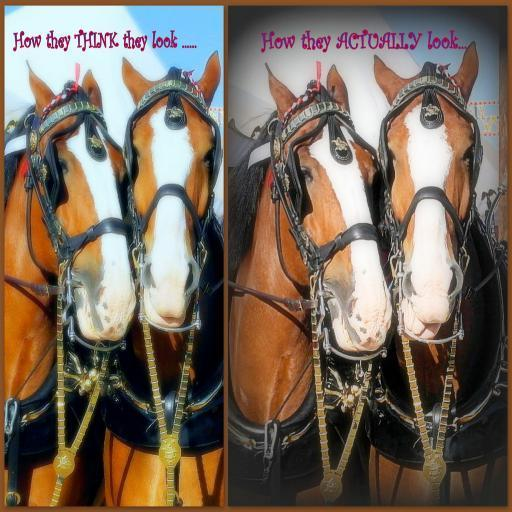horse: (228, 60, 394, 506), (356, 40, 507, 506), (3, 58, 138, 506), (104, 56, 224, 506)
